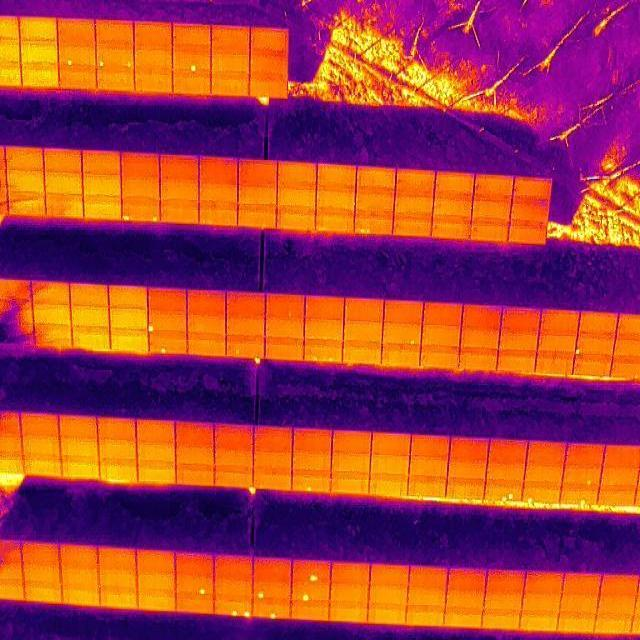Cell: (173, 45, 212, 71), (58, 44, 98, 68), (292, 561, 332, 584), (147, 312, 188, 333), (575, 334, 616, 355), (382, 324, 421, 346), (292, 470, 331, 491), (149, 332, 187, 353), (563, 464, 602, 484), (291, 582, 330, 602), (175, 575, 213, 595), (253, 579, 291, 599), (226, 338, 265, 357), (523, 481, 560, 501), (560, 485, 599, 503), (253, 600, 291, 618)
Cell-Multi: (96, 45, 135, 69), (304, 342, 343, 362), (122, 202, 160, 222), (483, 481, 523, 500), (215, 596, 253, 616), (354, 218, 393, 234)
No-Anomaly: (82, 175, 122, 206), (304, 295, 345, 323), (240, 162, 279, 190), (18, 16, 59, 42), (502, 306, 540, 334), (463, 304, 502, 331), (160, 158, 200, 184), (44, 174, 84, 200), (276, 188, 316, 214), (70, 282, 110, 308), (266, 292, 306, 318), (424, 302, 464, 328), (134, 68, 174, 94), (58, 17, 96, 44), (120, 154, 159, 180), (316, 166, 355, 192), (474, 176, 513, 202), (122, 178, 161, 204), (434, 196, 473, 222), (96, 19, 135, 45), (146, 288, 188, 312), (6, 171, 47, 195), (160, 184, 201, 208), (394, 194, 435, 218), (108, 286, 149, 310), (344, 298, 385, 322), (578, 311, 619, 335), (384, 300, 423, 325), (250, 72, 287, 98), (355, 168, 395, 192), (395, 170, 435, 194), (355, 194, 395, 218), (226, 292, 266, 316), (343, 321, 383, 345), (71, 326, 111, 350), (370, 564, 410, 588), (21, 66, 61, 90), (211, 72, 251, 96), (317, 190, 355, 215), (422, 326, 463, 349), (5, 148, 44, 172), (44, 150, 83, 174), (200, 162, 239, 186), (277, 166, 316, 190), (187, 290, 226, 314), (540, 310, 579, 334), (134, 22, 173, 46), (175, 420, 214, 444), (20, 41, 59, 65), (134, 45, 173, 69), (59, 68, 98, 92), (264, 318, 306, 340), (329, 601, 369, 624), (82, 154, 120, 178), (436, 175, 474, 199), (238, 188, 276, 212), (409, 565, 447, 589), (97, 68, 135, 92), (20, 542, 61, 564), (213, 556, 254, 578), (330, 562, 371, 584), (210, 49, 251, 71), (212, 26, 251, 49), (371, 431, 410, 454), (525, 571, 564, 594), (174, 71, 213, 94), (201, 186, 238, 210), (510, 221, 547, 245), (32, 305, 74, 326), (109, 309, 149, 331), (305, 320, 345, 342), (253, 425, 293, 447), (450, 435, 490, 457), (409, 455, 449, 477), (98, 566, 138, 588), (136, 588, 176, 610), (460, 329, 501, 350), (382, 345, 423, 366), (175, 442, 216, 463), (173, 22, 212, 44), (34, 325, 73, 347), (265, 339, 304, 361), (293, 428, 332, 450), (448, 569, 487, 591), (99, 585, 138, 607), (536, 334, 576, 355), (411, 435, 451, 456), (293, 449, 333, 470), (370, 452, 410, 473), (597, 485, 639, 505), (60, 545, 100, 566), (535, 354, 573, 376), (333, 429, 371, 451), (566, 443, 604, 465), (253, 558, 291, 580), (601, 574, 639, 596), (70, 308, 111, 328), (226, 318, 267, 338), (187, 314, 226, 335), (497, 352, 536, 373), (136, 419, 175, 440), (61, 437, 100, 458), (291, 600, 330, 621), (514, 179, 551, 201), (460, 349, 497, 371), (99, 418, 136, 440), (564, 573, 601, 595), (250, 50, 287, 72), (471, 202, 511, 222), (471, 222, 511, 242), (187, 336, 227, 356), (489, 440, 529, 460), (448, 458, 488, 478), (486, 460, 526, 480), (408, 475, 448, 495), (485, 592, 525, 612), (501, 330, 539, 351), (574, 355, 612, 376), (60, 417, 98, 438), (215, 425, 253, 446), (528, 440, 566, 461), (602, 462, 640, 483), (176, 554, 214, 575), (45, 200, 84, 220), (393, 218, 432, 238), (431, 221, 470, 241), (421, 348, 460, 368), (254, 448, 293, 468), (332, 452, 371, 472), (99, 459, 138, 479), (526, 462, 565, 482), (137, 462, 176, 482), (176, 464, 215, 484), (214, 466, 253, 486), (331, 472, 370, 492), (137, 570, 176, 590), (213, 578, 252, 598), (61, 585, 100, 605), (368, 604, 407, 624), (111, 330, 148, 351), (250, 29, 287, 50), (22, 415, 59, 436), (63, 455, 100, 476), (99, 438, 137, 458), (138, 441, 176, 461), (215, 446, 253, 466), (253, 468, 293, 487), (370, 474, 408, 494), (447, 478, 485, 498), (486, 572, 524, 592), (23, 582, 61, 602), (523, 594, 561, 614), (407, 604, 445, 624), (445, 606, 483, 626), (482, 609, 520, 629), (160, 205, 199, 224), (137, 550, 176, 569), (20, 564, 61, 582), (22, 436, 60, 455), (597, 595, 635, 614), (512, 202, 548, 222), (343, 345, 383, 363), (604, 444, 640, 464), (61, 564, 97, 584), (98, 548, 137, 566), (445, 588, 484, 606), (561, 595, 600, 613), (520, 612, 559, 630), (277, 212, 315, 230), (239, 212, 277, 230), (370, 585, 408, 603), (407, 589, 447, 606), (559, 614, 599, 631), (315, 215, 352, 233), (24, 456, 61, 474), (177, 595, 214, 613), (329, 584, 368, 601), (83, 205, 122, 221), (201, 212, 238, 228), (595, 615, 632, 631)
Shadowing: (7, 192, 46, 216), (31, 281, 70, 305)
